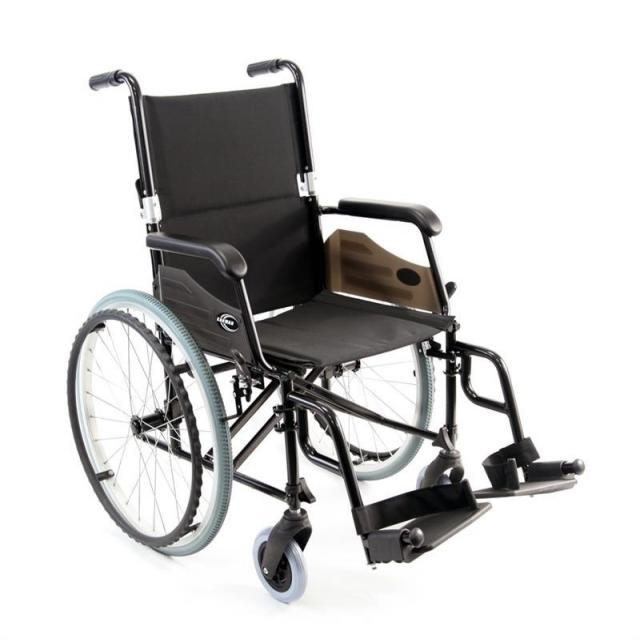wheelchair: (55, 54, 600, 608)
